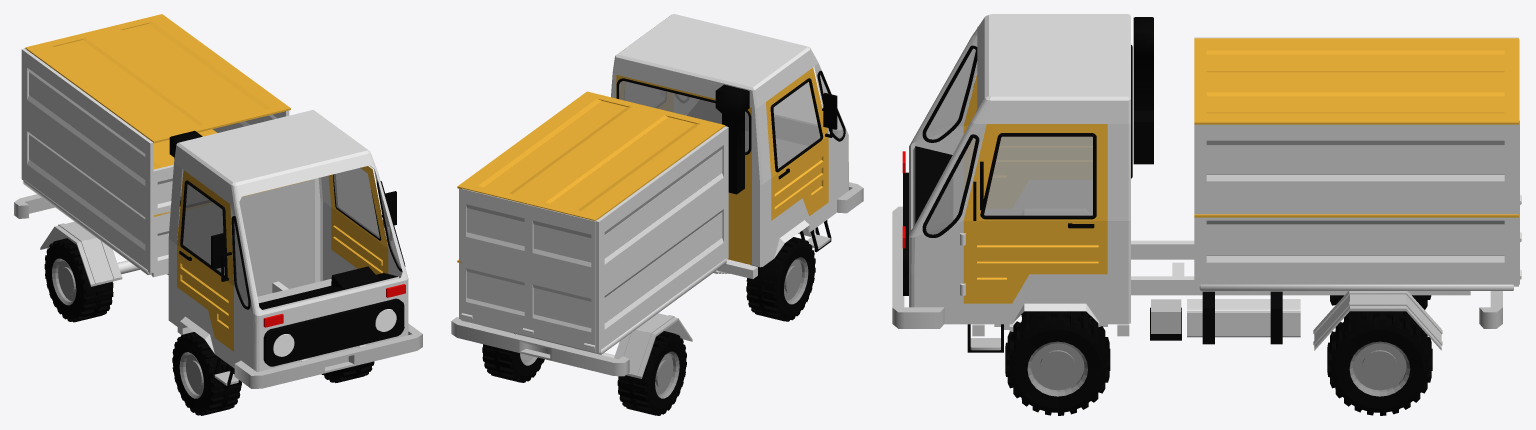
File: Multicar_in_work.fbx
3 views of the same model, side by side, from view 1: azimuth 30°, elevation 25°; view 2: azimuth 150°, elevation 25°; view 3: azimuth 270°, elevation 25° (orthographic). The views are drawn at different scales.
Visible parts, largest first — view 1: Kabine, ladewand1, ladewand1_2, Kabine_innen, Tür, Frontgrill_neu, Tür_Fenster, Front_right_wheel, Back_right_wheel, Stoßstange, Rad_Blech, ladewand1_1 (+12 smaller); view 2: ladewand1_2, ladewand1, ladewand1_Hinten, Kabine, Tür, Front_right_wheel, Back_right_wheel, Stoßstange_Hinten, Tür_Fenster, Luftfilter, Kabine_Rückwand, Heckfenster (+9 smaller); view 3: ladewand1_2, Kabine, ladewand1, Tür, Front_left_wheel, Back_left_wheel, Tür_Fenster, Tank, Träger, Kabine_Fenst_1, Luftfilter, Rad_Blech (+10 smaller).
Part boxes in pixels (bbox=[...]): Kabine: bbox=[168, 110, 408, 371]; ladewand1: bbox=[25, 14, 290, 216]; ladewand1_2: bbox=[21, 48, 289, 273]; Kabine_innen: bbox=[178, 163, 398, 311]; Tür: bbox=[177, 166, 388, 351]; Frontgrill_neu: bbox=[263, 298, 404, 366]; Tür_Fenster: bbox=[183, 168, 379, 275]; Front_right_wheel: bbox=[172, 332, 241, 415]; Back_right_wheel: bbox=[44, 238, 113, 322]; Stoßstange: bbox=[234, 323, 422, 388]; Rad_Blech: bbox=[40, 221, 122, 286]; ladewand1_1: bbox=[151, 164, 173, 277]; ladewand1_2: bbox=[459, 126, 728, 352]; ladewand1: bbox=[457, 91, 725, 263]; ladewand1_Hinten: bbox=[462, 188, 596, 352]; Kabine: bbox=[611, 14, 848, 267]; Tür: bbox=[766, 67, 828, 220]; Front_right_wheel: bbox=[746, 237, 815, 321]; Back_right_wheel: bbox=[617, 331, 686, 415]; Stoßstange_Hinten: bbox=[451, 317, 629, 376]; Tür_Fenster: bbox=[770, 82, 820, 168]; Luftfilter: bbox=[715, 84, 749, 194]; Kabine_Rückwand: bbox=[616, 75, 751, 264]; Heckfenster: bbox=[619, 81, 748, 152]; ladewand1_2: bbox=[1194, 37, 1518, 286]; Kabine: bbox=[909, 14, 1130, 324]; ladewand1: bbox=[1194, 38, 1518, 217]; Tür: bbox=[963, 73, 1107, 303]; Front_left_wheel: bbox=[1005, 311, 1110, 415]; Back_left_wheel: bbox=[1327, 311, 1432, 415]; Tür_Fenster: bbox=[984, 136, 1092, 215]; Tank: bbox=[1187, 299, 1300, 337]; Träger: bbox=[1131, 240, 1470, 295]; Kabine_Fenst_1: bbox=[926, 48, 975, 234]; Luftfilter: bbox=[1133, 17, 1153, 164]; Rad_Blech: bbox=[1313, 291, 1442, 350].
Size of the model in its own units: 177 by 226 by 415.
